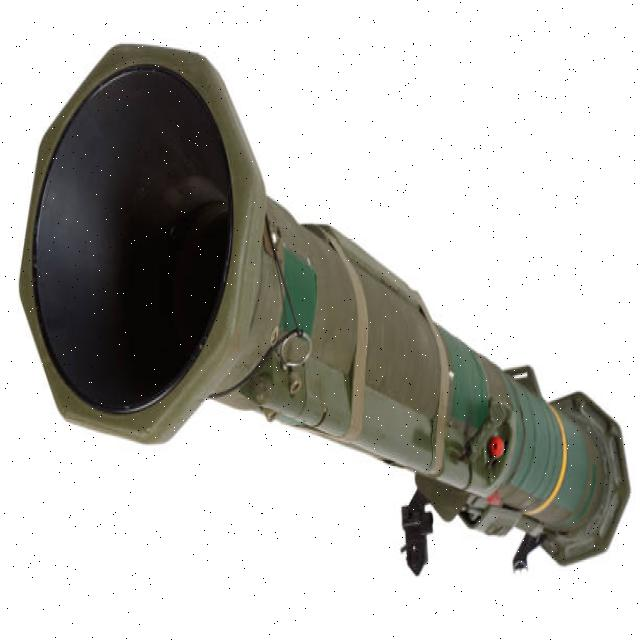bazooka: (13, 22, 636, 590)
